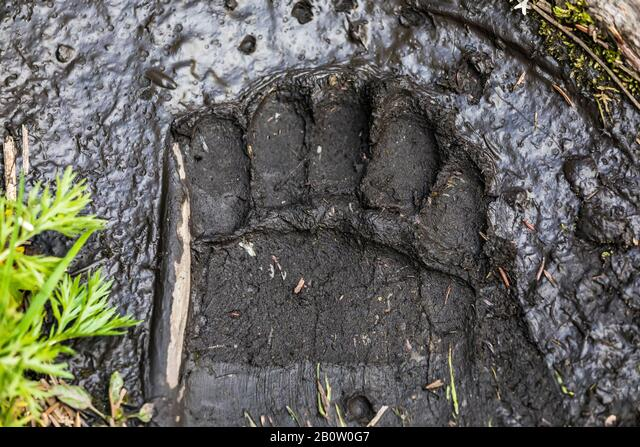bear: (154, 70, 553, 414)
